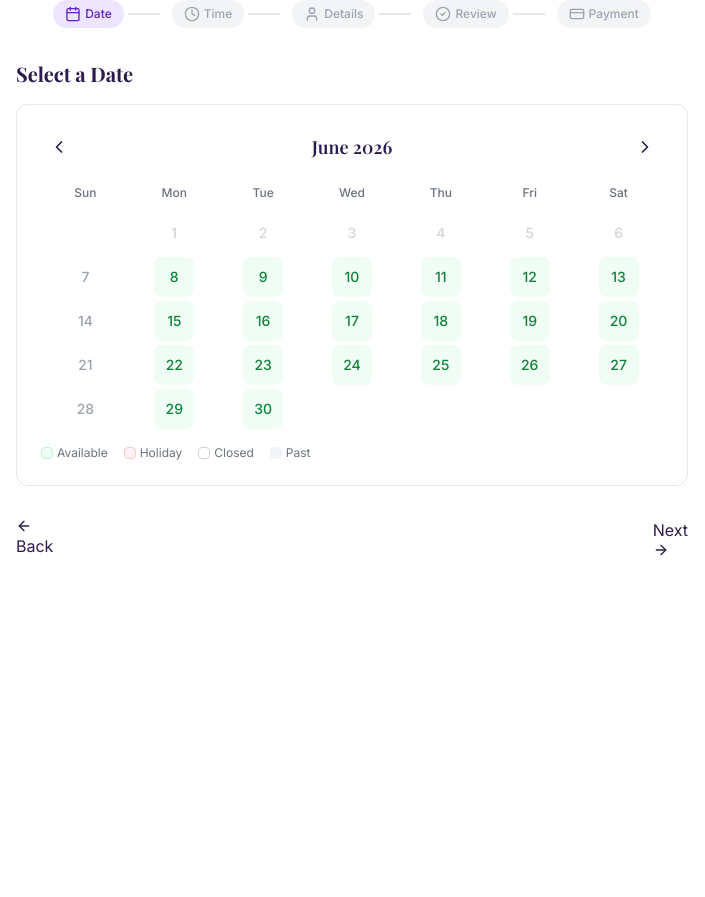
Test: BookingWizard › consultation: navigates from time to details step (duration auto-set)
Click the button "30" at (263, 409), box top-left (243, 389), bottom-right (283, 429)
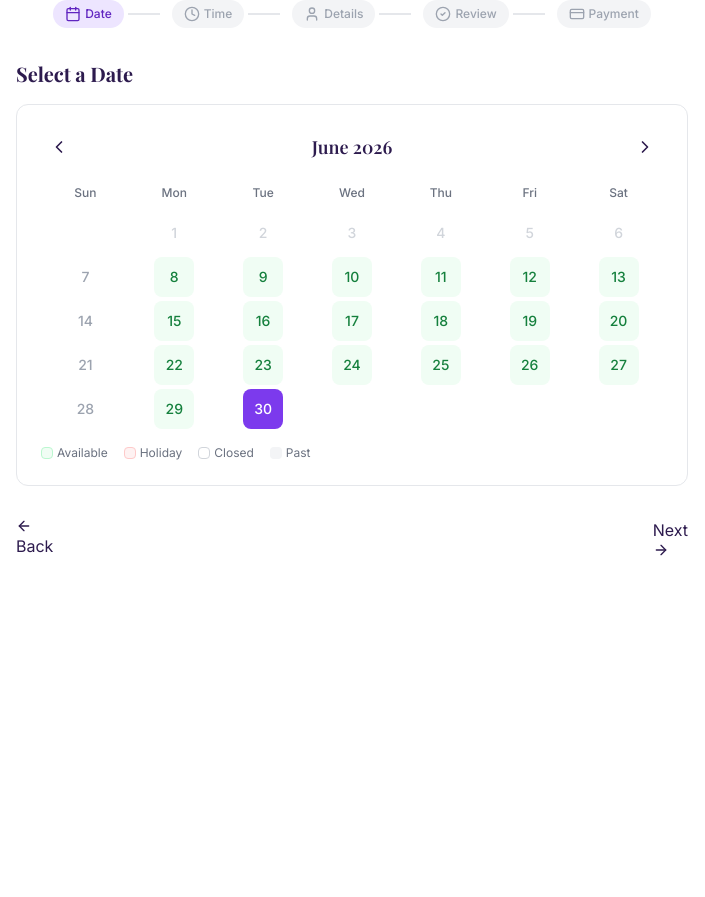
Click the button "Next" at (670, 538), box top-left (653, 518), bottom-right (688, 558)
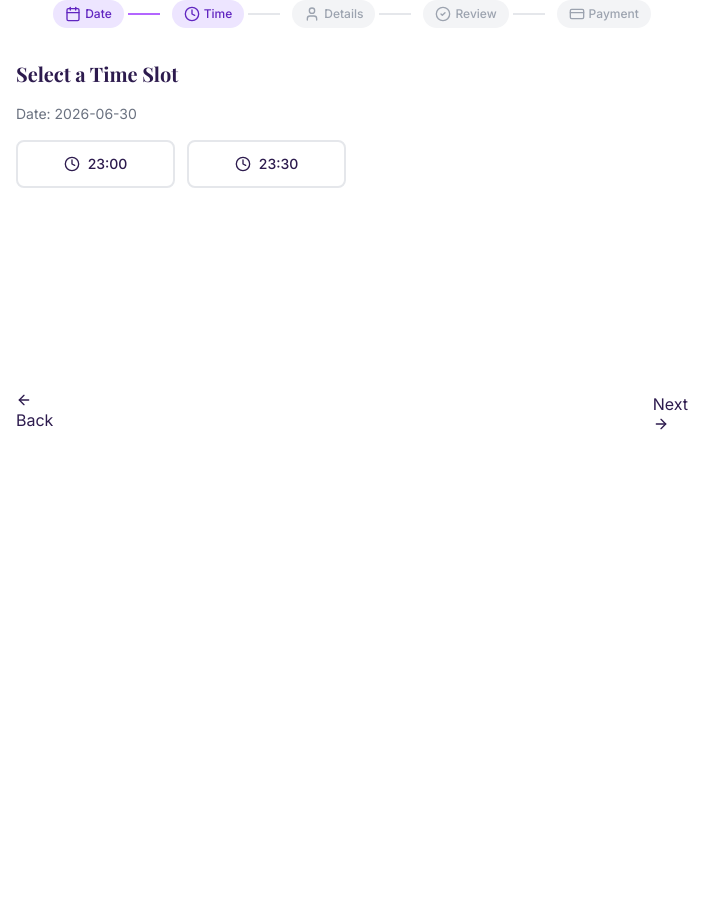
Check: the button "23:00" is shown
Click the button "23:00" at (96, 164), box top-left (16, 140), bottom-right (175, 188)
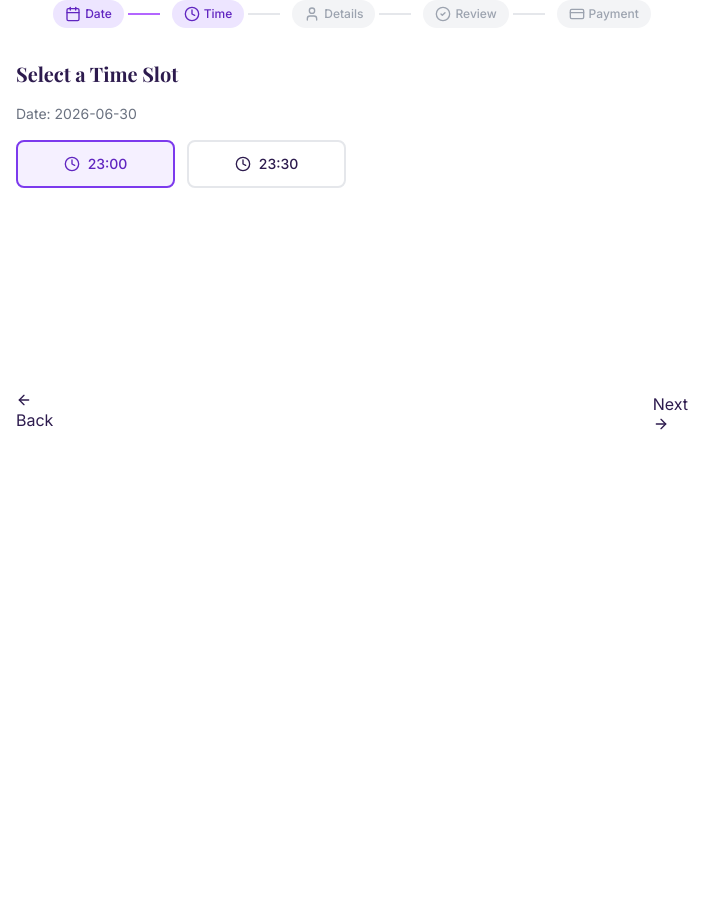
Click the button "Next" at (670, 412), box top-left (653, 392), bottom-right (688, 432)
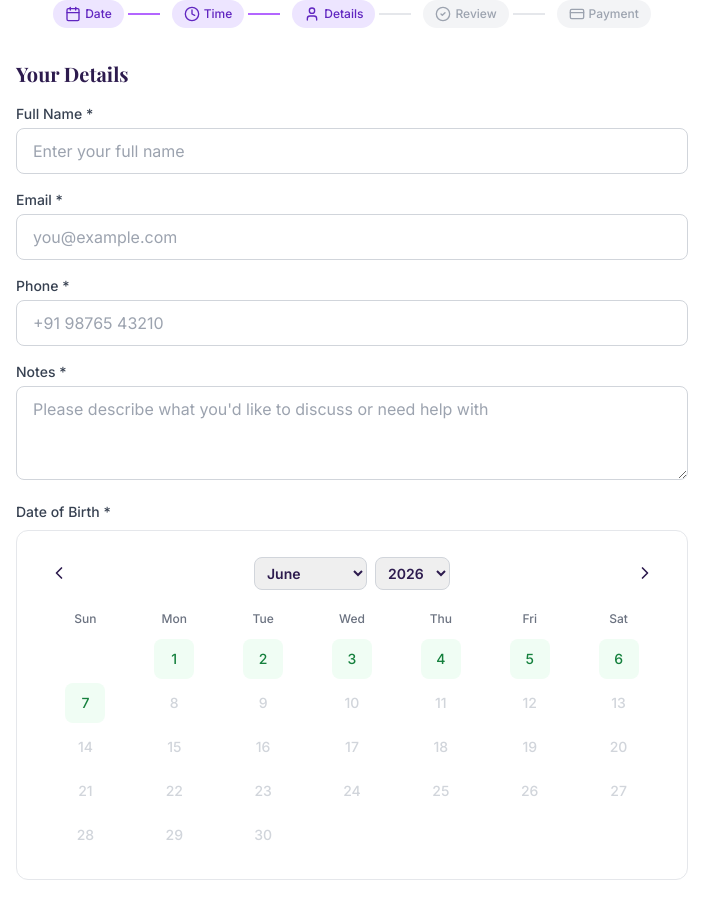
Check: the heading "Your Details" is shown, box top-left (16, 60), bottom-right (129, 87)
